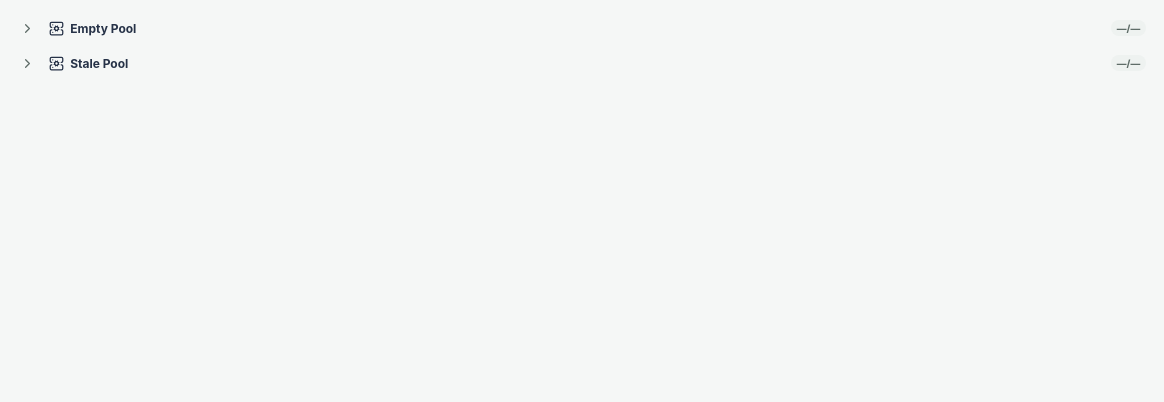
Test: Capacity explorer › distinguishes empty Agent Pools and stale branch pagination
Click the button named "Expand Empty Pool" at (28, 28), box [15,15,41,41]
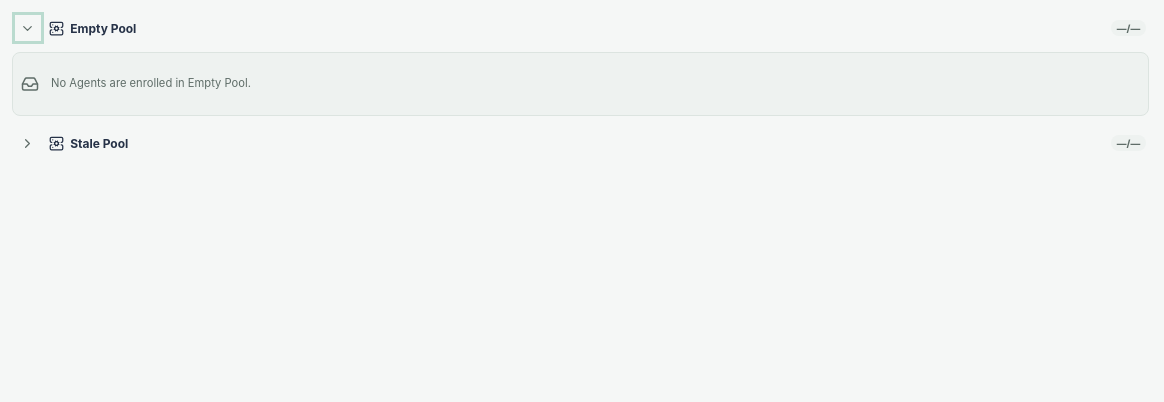
Result: the text "No Agents are enrolled in Empty Pool." is shown at [51,76,251,90]
Click the button named "Expand Stale Pool" at (28, 143), box [15,130,41,156]
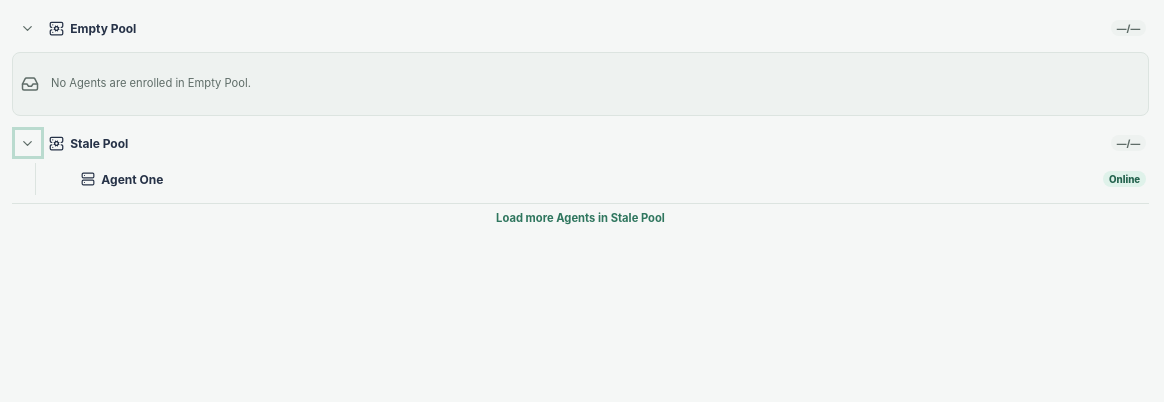
Result: the link "Agent One" is shown at [101,172,163,187]
Click the button "Load more Agents in Stale Pool" at (580, 218), box [12,203,1149,233]
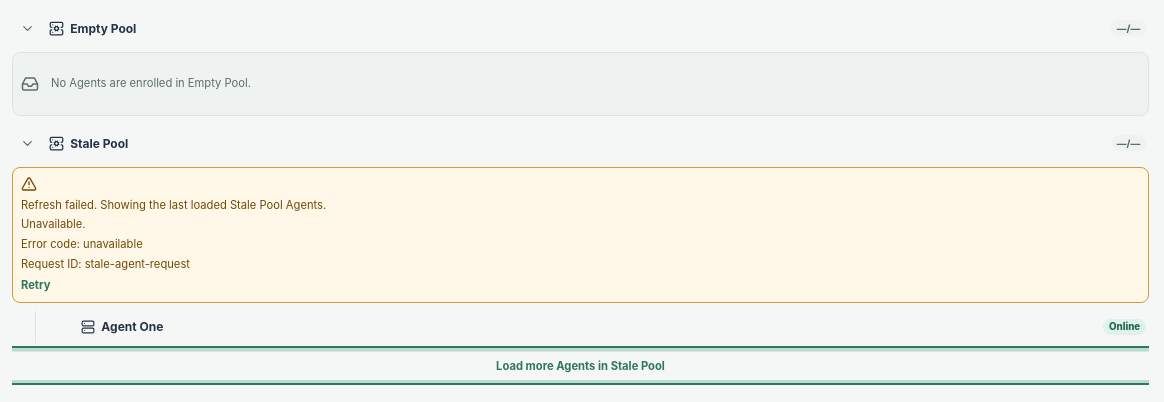
Result: the link "Agent One" is shown at [101,319,163,334]
Result: the text "Refresh failed. Showing the last loaded Stale Pool Agents." is shown at [21,198,326,212]
